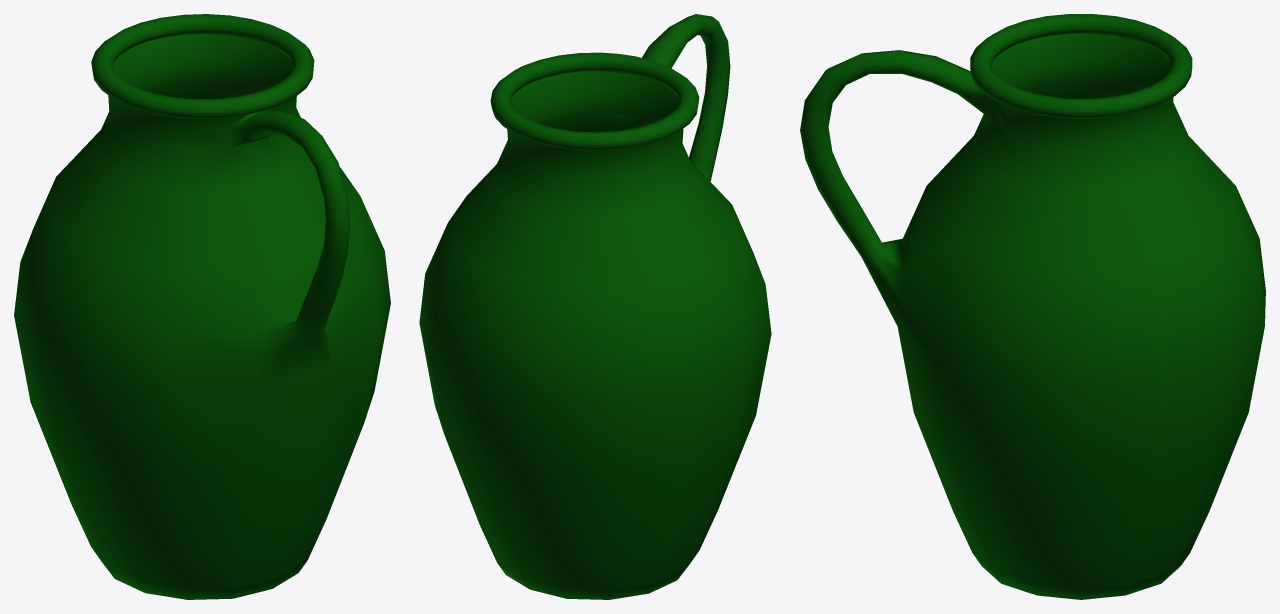
The model's file is jug02.FBX.
The picture shows the model from 3 angles, left to right: view 1: azimuth 30°, elevation 25°; view 2: azimuth 150°, elevation 25°; view 3: azimuth 270°, elevation 25°; orthographic projection. The views are drawn at different scales.
Parts seen in each view (by area): view 1: SM_jug02_0; view 2: SM_jug02_0; view 3: SM_jug02_0.
Part boxes in pixels (x1,y1,x2,y2): SM_jug02_0: [14, 14, 390, 599]; SM_jug02_0: [419, 14, 771, 599]; SM_jug02_0: [800, 14, 1265, 599].
Size of the model in its own units: 28.57 by 35.24 by 42.22.
